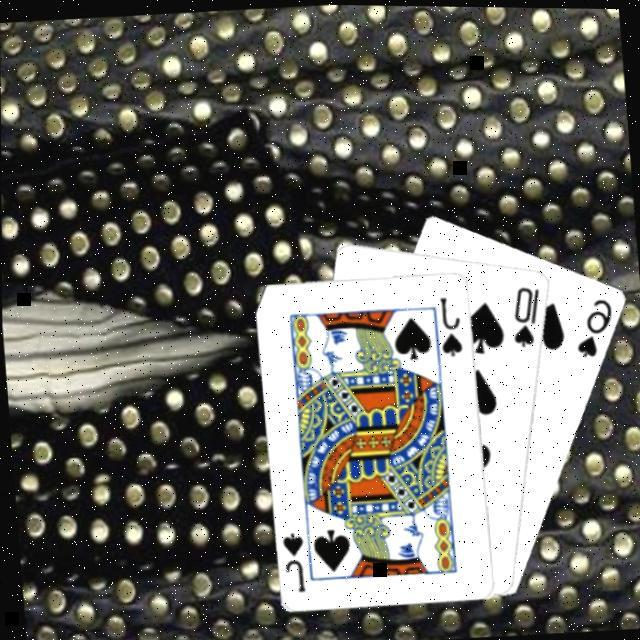10S: (505, 278, 546, 347)
6S: (569, 289, 617, 357)
JS: (434, 288, 464, 356), (278, 525, 308, 592)
